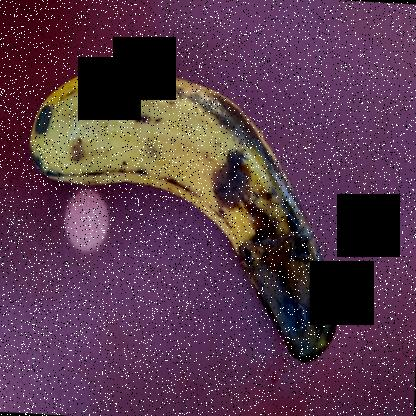rotten: (36, 55, 350, 391)
